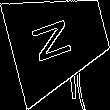N_E: (34, 14, 84, 67)
